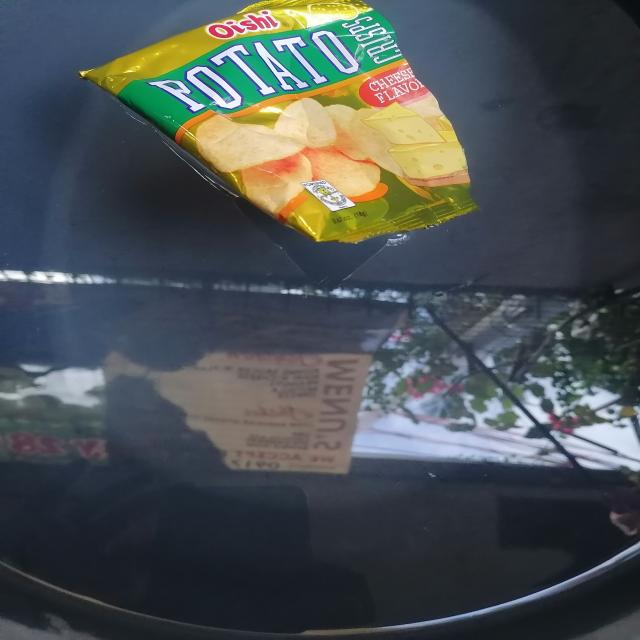Plastic Wrapper: (78, 0, 478, 243)
